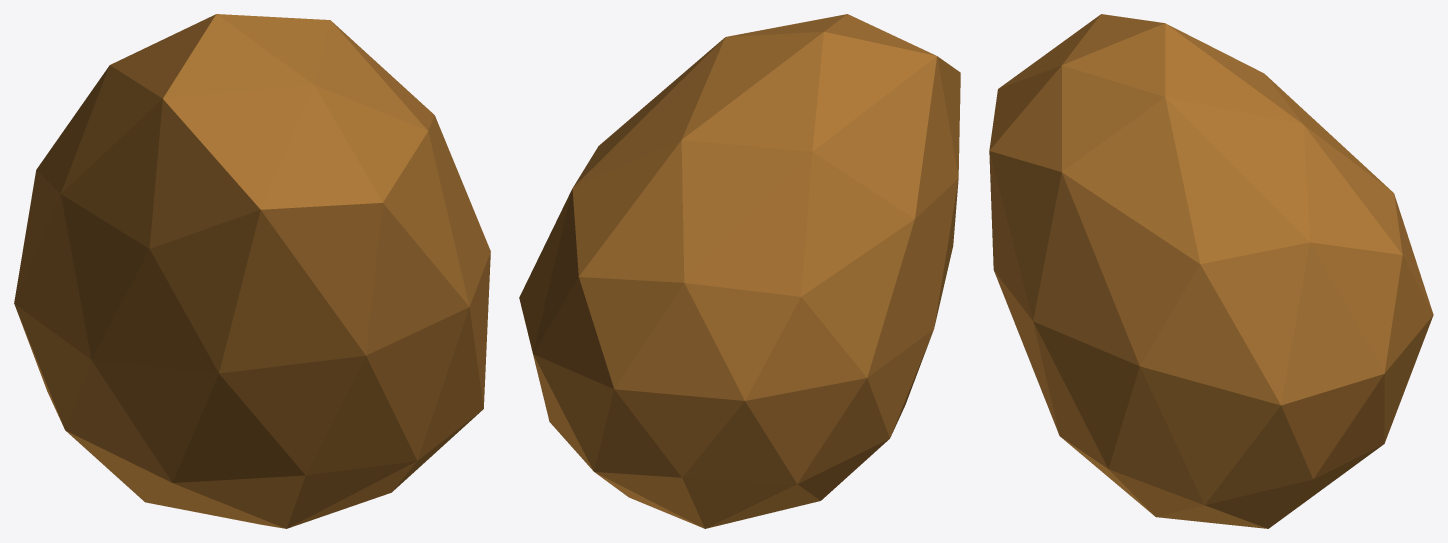
The model's file is potato.fbx.
3 renders of one model, left to right at view 1: azimuth 30°, elevation 25°; view 2: azimuth 150°, elevation 25°; view 3: azimuth 270°, elevation 25°, orthographic. The views are drawn at different scales.
Parts seen in each view (by area): view 1: Icosphere; view 2: Icosphere; view 3: Icosphere.
Boxes of the visible parts, x1=… form: Icosphere: x1=14, y1=14, x2=490, y2=528; Icosphere: x1=519, y1=14, x2=960, y2=528; Icosphere: x1=989, y1=14, x2=1433, y2=528.
Bounding box in the file's own units: 190 × 243 × 215.
1 material, 1 textured.
